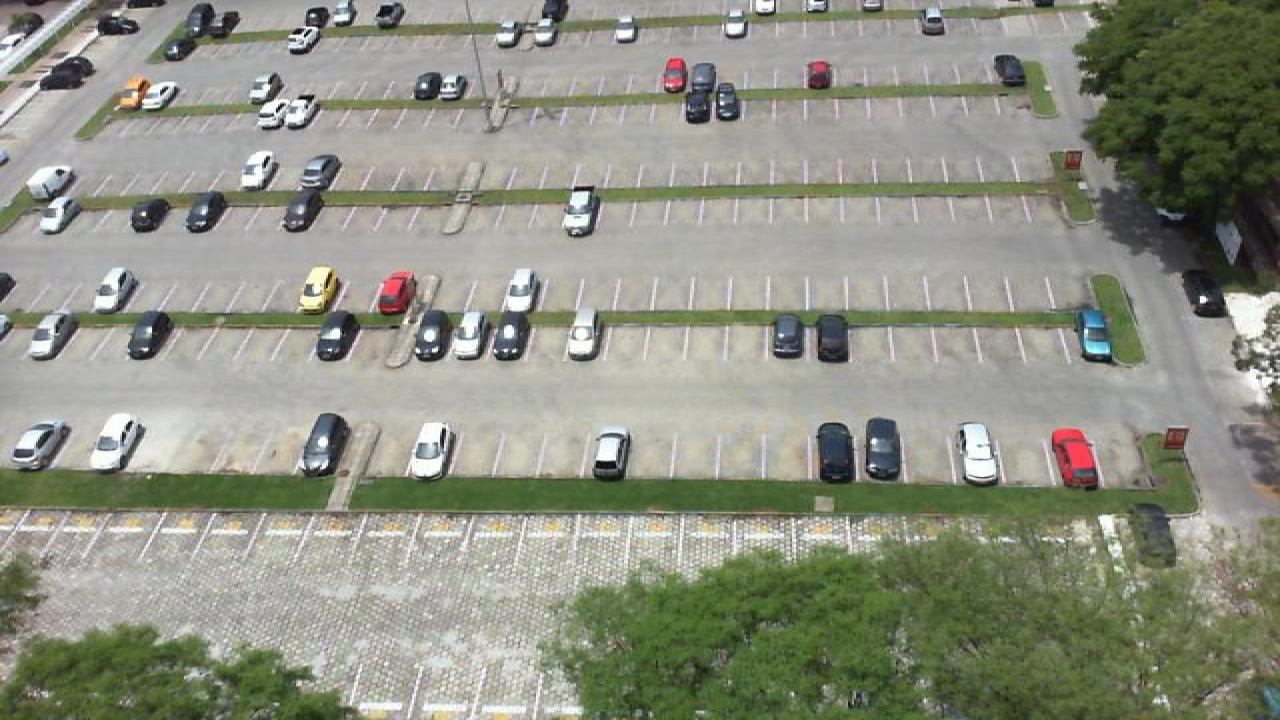Car: (294, 412, 348, 479), (90, 411, 144, 472), (1050, 428, 1102, 490), (956, 422, 1000, 487), (8, 422, 66, 470), (404, 422, 452, 480), (310, 310, 360, 362), (862, 418, 902, 482), (814, 420, 854, 483), (28, 312, 78, 361), (408, 310, 454, 362), (588, 428, 632, 481), (490, 310, 534, 362), (1182, 269, 1228, 317), (126, 311, 170, 361), (560, 185, 600, 238), (1074, 307, 1112, 362), (298, 264, 338, 315), (564, 310, 602, 362), (374, 271, 416, 317), (40, 56, 96, 90), (182, 191, 226, 234), (452, 312, 490, 361), (38, 192, 80, 236), (98, 266, 138, 312), (814, 315, 852, 363), (296, 153, 342, 192), (502, 268, 540, 315), (24, 165, 76, 199), (282, 191, 324, 233), (238, 150, 278, 192), (770, 314, 804, 360), (130, 196, 172, 233), (682, 82, 714, 124), (712, 82, 744, 123), (254, 94, 292, 128), (116, 76, 154, 110), (992, 54, 1028, 89), (68, 36, 112, 64), (286, 96, 322, 130), (248, 72, 284, 106), (162, 31, 200, 63), (492, 19, 528, 50), (140, 81, 176, 111), (188, 2, 218, 38), (660, 57, 688, 94), (284, 26, 320, 54), (412, 71, 446, 100), (688, 61, 718, 92), (918, 3, 946, 36), (720, 10, 750, 40), (526, 21, 558, 49), (372, 4, 406, 29), (614, 12, 640, 44), (806, 61, 834, 90), (302, 4, 334, 28), (330, 0, 358, 27), (538, 0, 570, 21), (444, 75, 468, 102), (212, 16, 240, 38), (750, 0, 778, 15), (804, 0, 832, 15), (860, 0, 886, 12)
